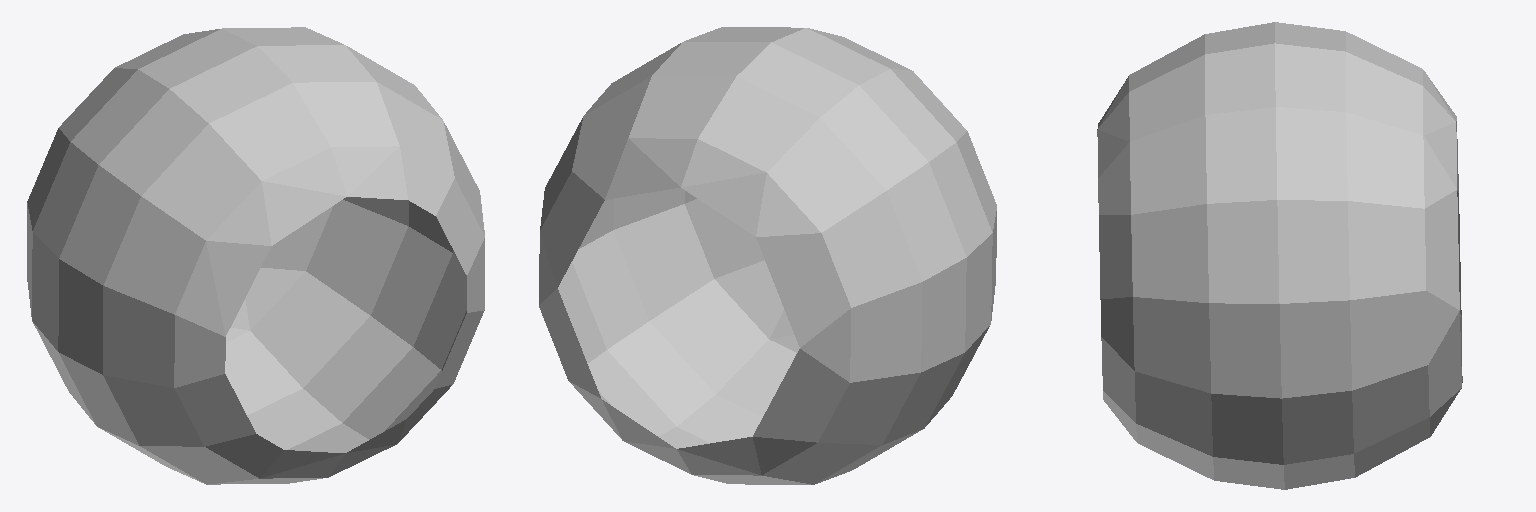
File: RElbowYaw.obj
3 views of the same model, side by side, from view 1: azimuth 30°, elevation 25°; view 2: azimuth 150°, elevation 25°; view 3: azimuth 270°, elevation 25° (orthographic).
Parts seen in each view (by area): view 1: default; view 2: default; view 3: default.
Part boxes in pixels (x1,y1,x2,y2): default: (27,27,484,484); default: (539,27,996,484); default: (1097,22,1462,489).
Bounding box in the file's own units: 0.0619 × 0.0634 × 0.0495.